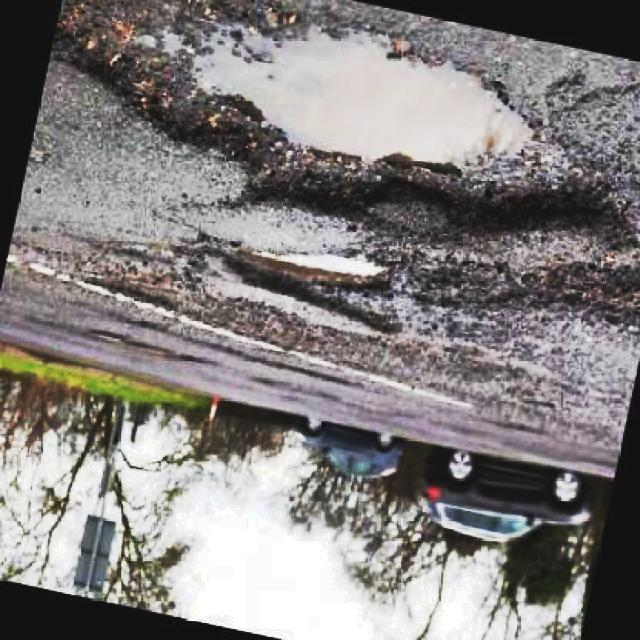pothole: (45, 0, 626, 249), (400, 238, 640, 332), (210, 228, 388, 304)
